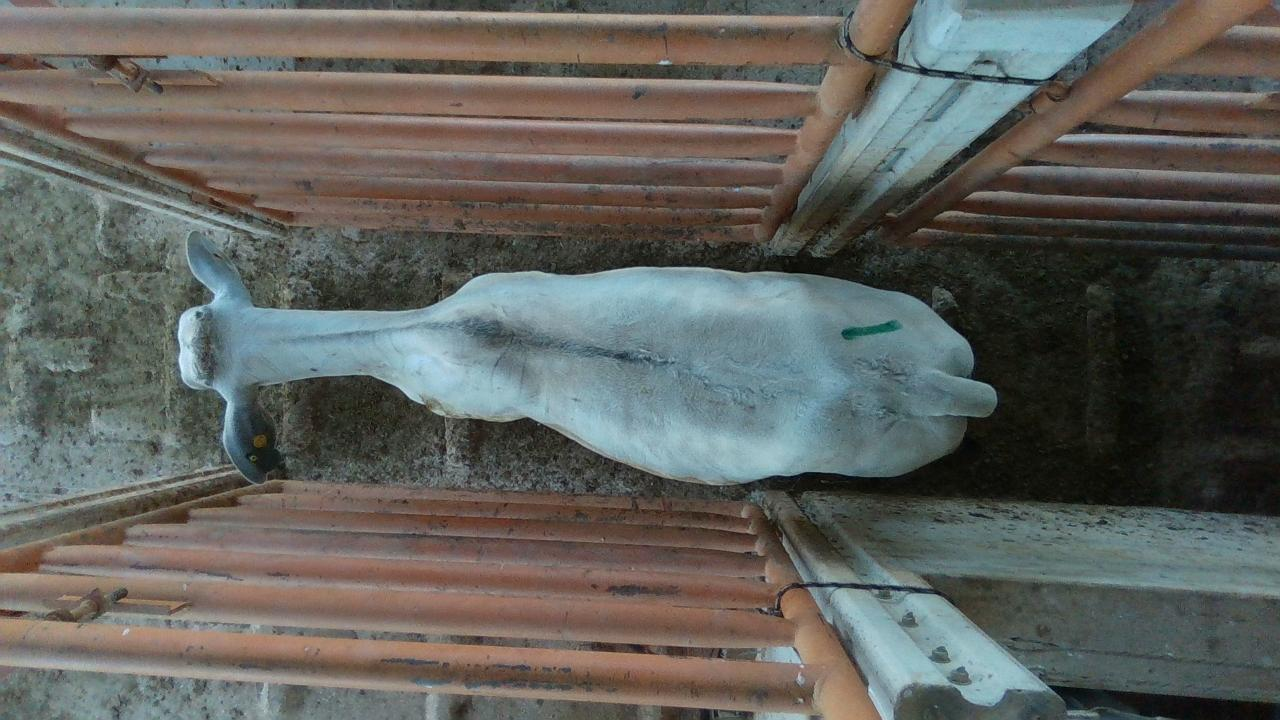cattle: (174, 228, 998, 488)
